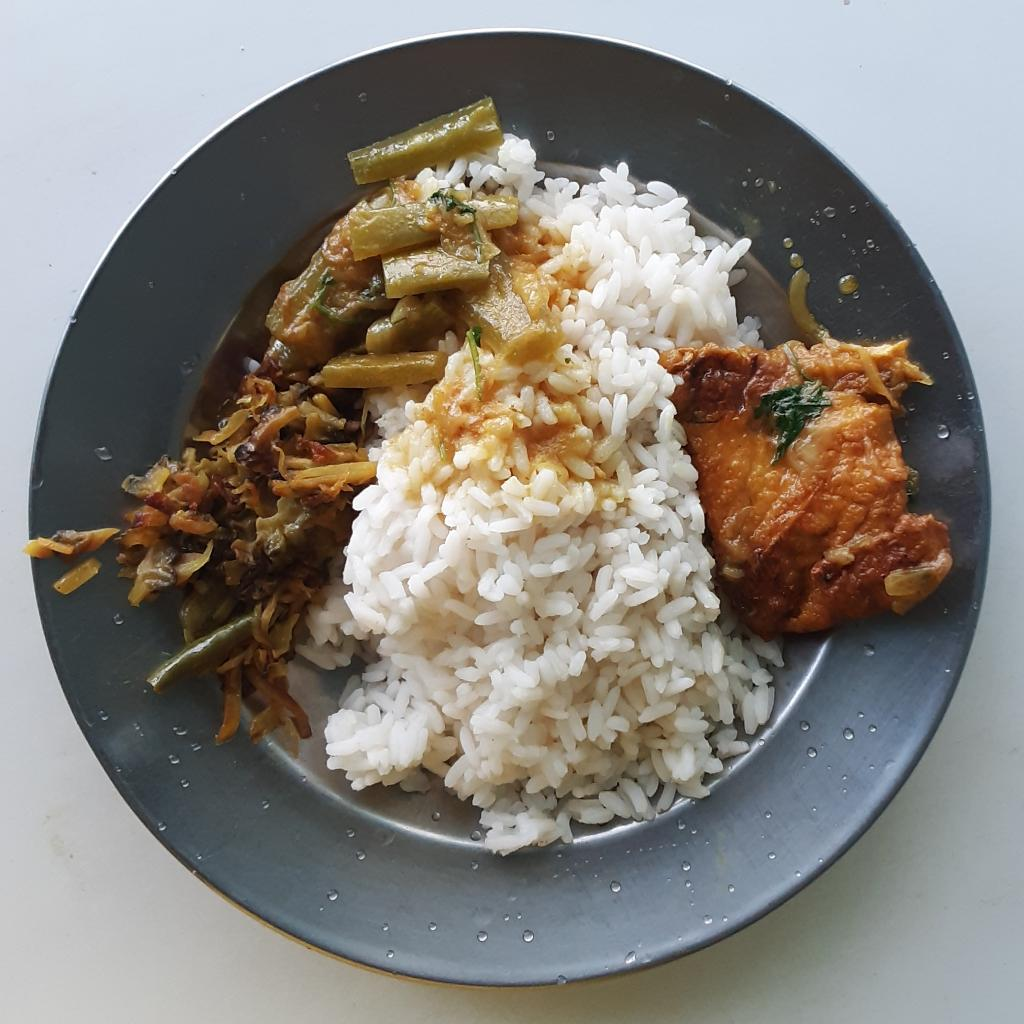fish: (656, 332, 953, 633)
korola-vaji: (18, 353, 376, 752)
rice: (298, 128, 786, 856)
vegetable: (261, 95, 555, 387)
